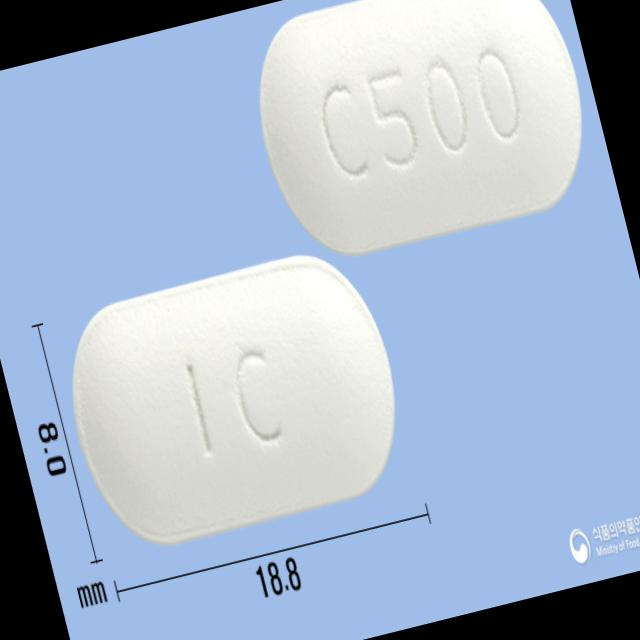Ciroctan: (42, 232, 426, 568), (228, 0, 614, 282)
